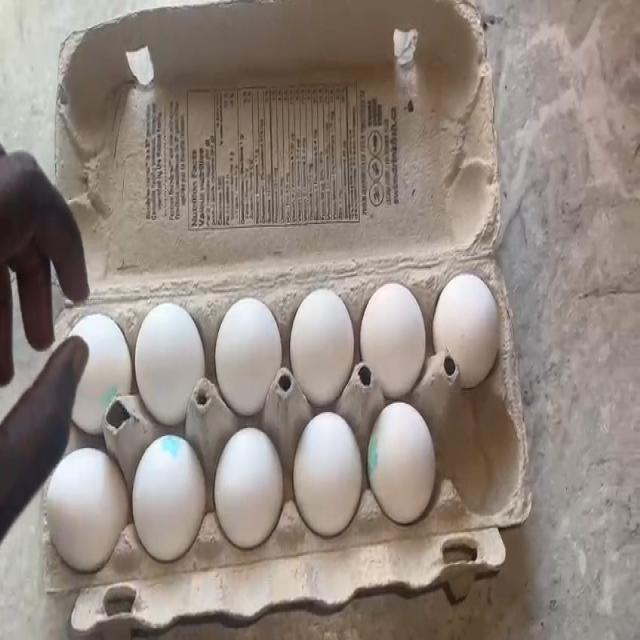Egg: (133, 434, 204, 550), (130, 298, 202, 408), (217, 286, 284, 401), (48, 451, 123, 548), (218, 430, 284, 536), (374, 408, 437, 516), (295, 274, 352, 391), (300, 412, 362, 516), (364, 271, 420, 379), (439, 270, 498, 372)
